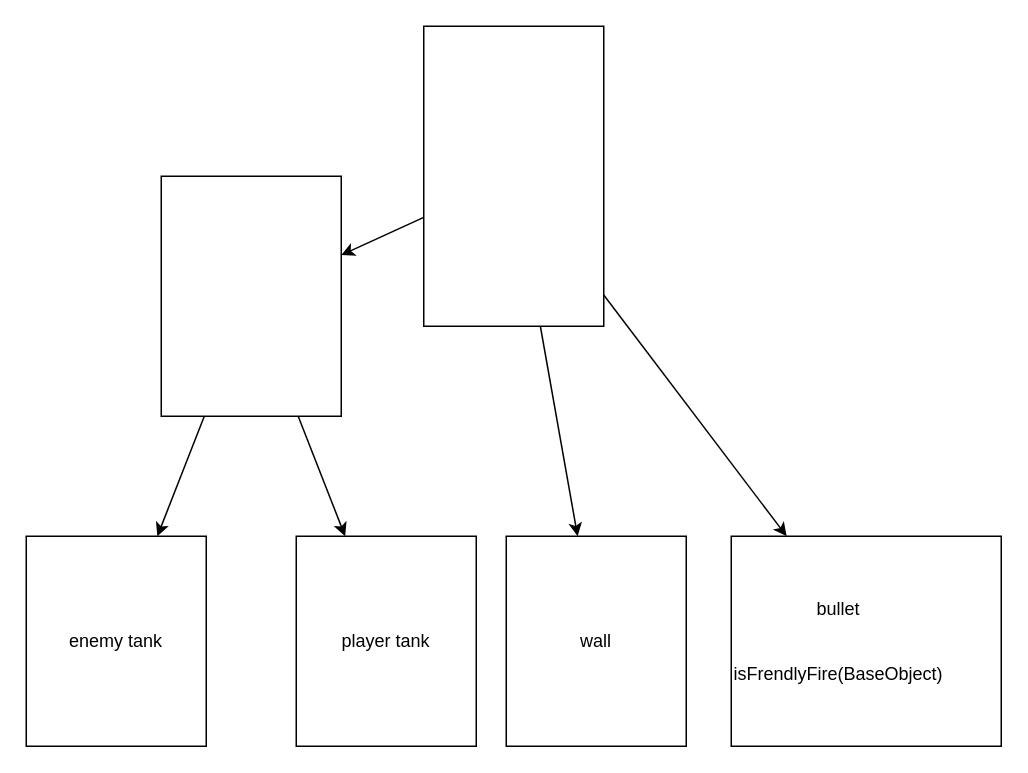
Some shapes in this 1028 by 773 pixel diagram are drawn without their labels. The centre of each missing label's shape, as x and y in pixels:
base object name type position isCollide(): pixel 513 175
Tank orientation move() shoot(): pixel 250 295
